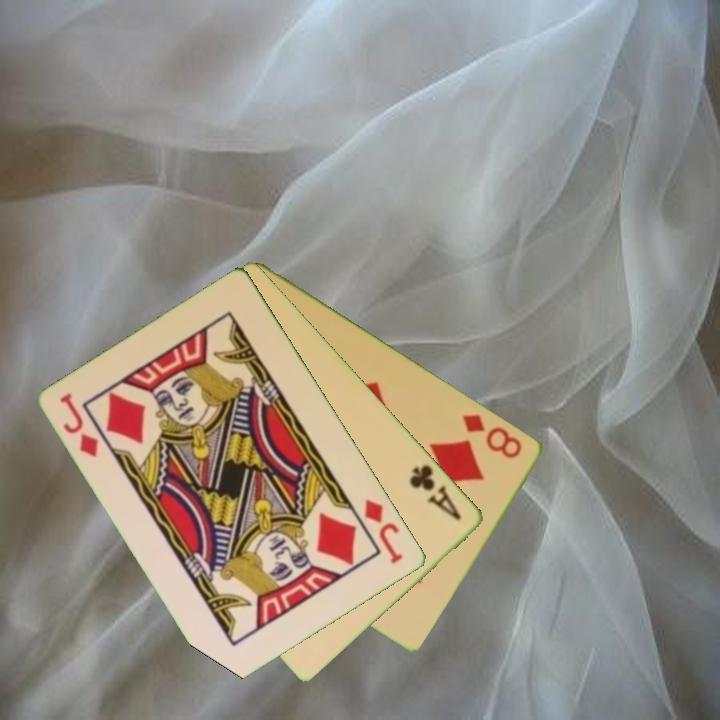8d: (459, 410, 526, 462)
Ac: (406, 460, 465, 524)
Jd: (57, 389, 103, 461), (361, 495, 406, 567)
